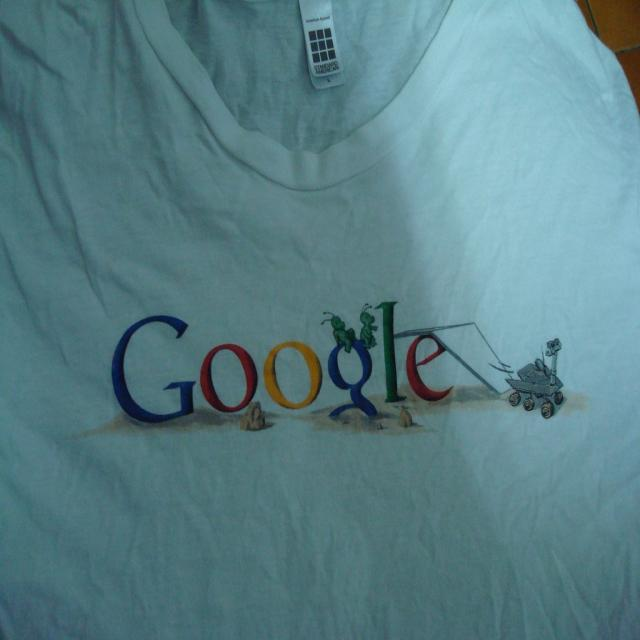google: (109, 297, 463, 428)
